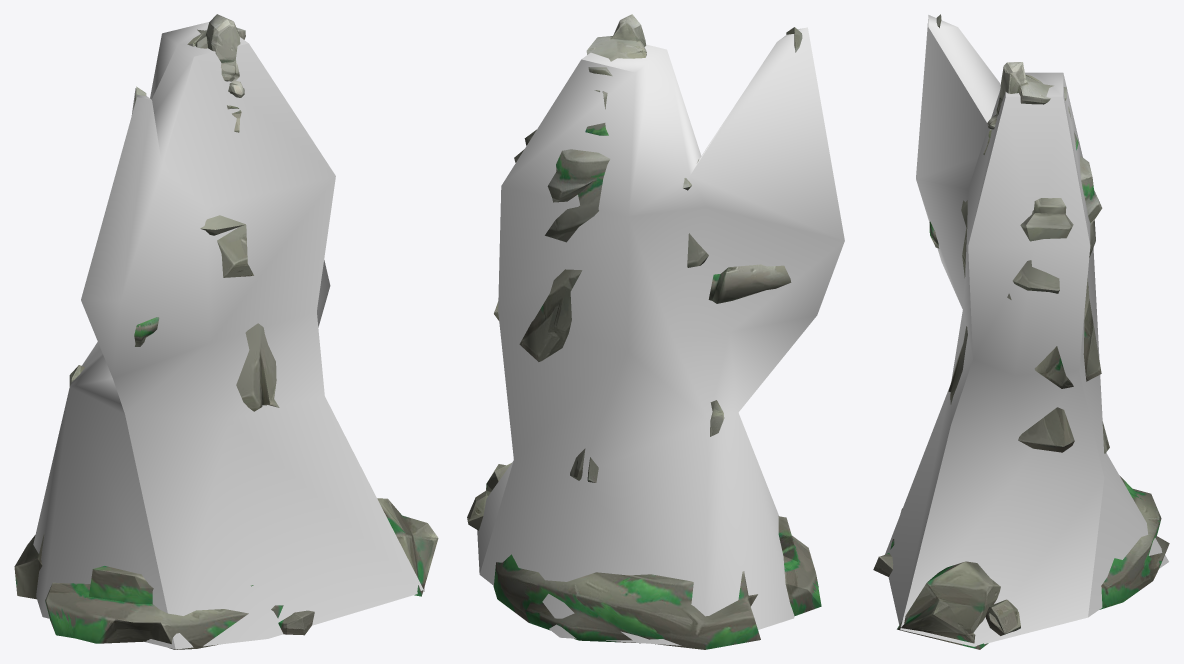
File: Island_003_Sign_010.FBX
3 views of the same model, side by side, from view 1: azimuth 30°, elevation 25°; view 2: azimuth 150°, elevation 25°; view 3: azimuth 270°, elevation 25° (orthographic). The views are drawn at different scales.
Parts seen in each view (by area): view 1: Island_003_sign_010_coli, Island_003_sign_010; view 2: Island_003_sign_010_coli, Island_003_sign_010; view 3: Island_003_sign_010_coli, Island_003_sign_010.
Boxes of the visible parts, <box> form: Island_003_sign_010_coli: <box>33,22,424,649</box>; Island_003_sign_010: <box>14,14,438,649</box>; Island_003_sign_010_coli: <box>477,27,844,645</box>; Island_003_sign_010: <box>467,14,821,649</box>; Island_003_sign_010_coli: <box>885,15,1168,646</box>; Island_003_sign_010: <box>873,14,1169,649</box>.
Size of the model in its own units: 496 by 752 by 395.
